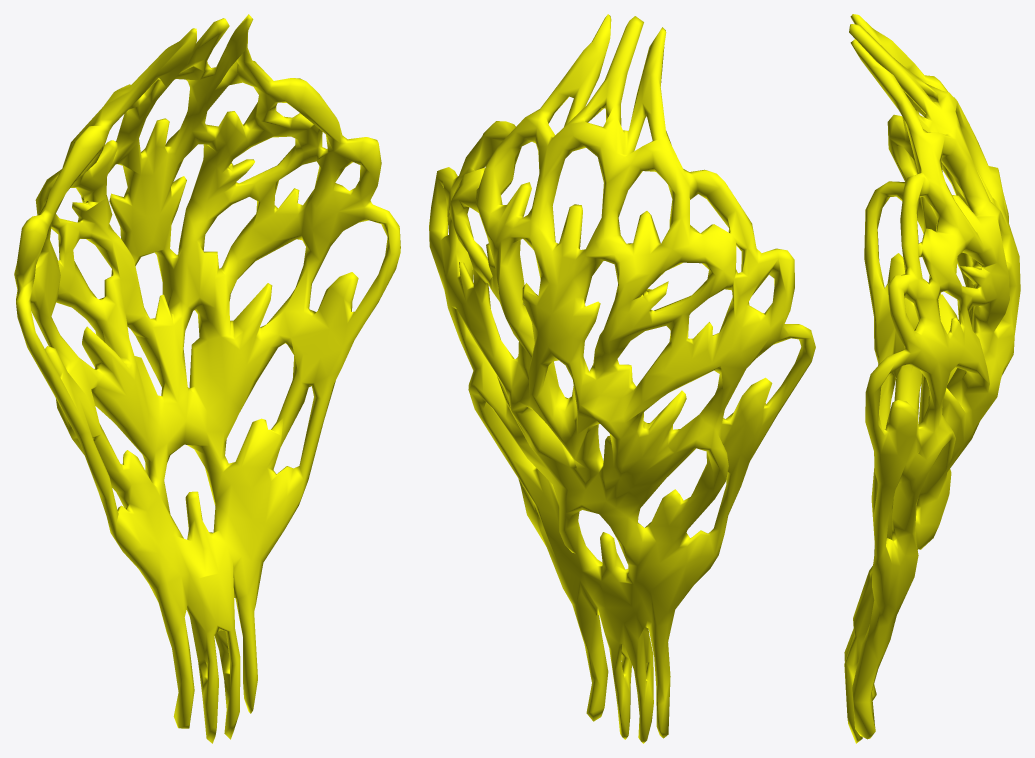
Rendered from shield.q.glb.
3 views of the same model, side by side, from view 1: azimuth 30°, elevation 25°; view 2: azimuth 150°, elevation 25°; view 3: azimuth 270°, elevation 25° (orthographic).
Parts seen in each view (by area): view 1: amzon braid sym OTHER 01; view 2: amzon braid sym OTHER 01; view 3: amzon braid sym OTHER 01.
Part boxes in pixels (bbox=[...]): amzon braid sym OTHER 01: bbox=[14, 14, 400, 743]; amzon braid sym OTHER 01: bbox=[429, 14, 815, 743]; amzon braid sym OTHER 01: bbox=[844, 14, 1020, 743].
Size of the model in its own units: 1.3 by 2.37 by 0.5283.
Materials: 1 (1 with a texture image).
